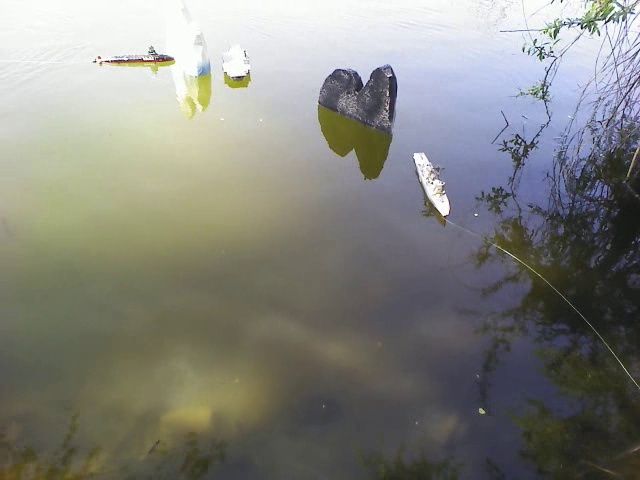aircraft_carrier: (221, 38, 253, 77)
iceberg: (171, 1, 211, 77)
rock: (317, 62, 407, 137)
submarine: (94, 45, 177, 66)
warship: (413, 150, 452, 218)
